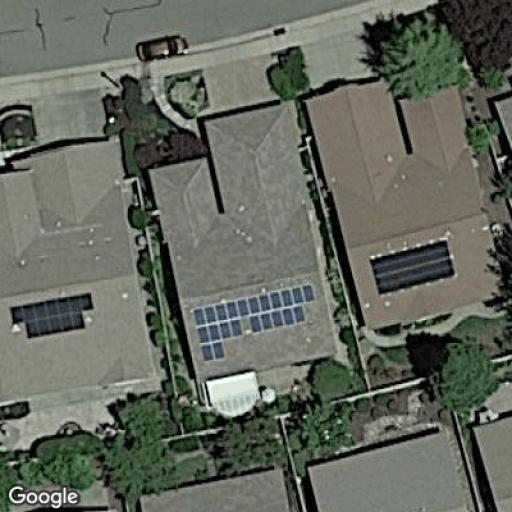solar-panel: (189, 284, 318, 363), (371, 242, 458, 296), (7, 291, 97, 337)
